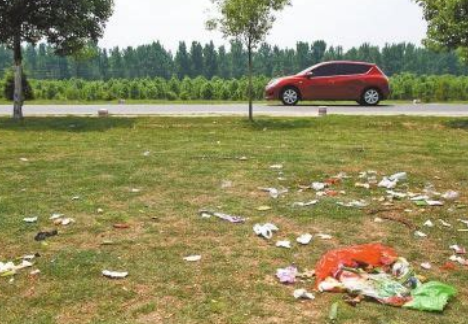garbage: (306, 245, 461, 312), (1, 250, 53, 285), (407, 216, 464, 246), (269, 261, 308, 300), (409, 186, 466, 211), (196, 206, 254, 228), (262, 180, 310, 205), (266, 231, 318, 252), (312, 177, 347, 204), (371, 172, 405, 192), (29, 226, 57, 246), (49, 210, 79, 228), (342, 198, 383, 210), (101, 266, 130, 282), (256, 219, 279, 238), (18, 216, 49, 228), (109, 219, 135, 232), (349, 169, 370, 185), (182, 250, 204, 262)
